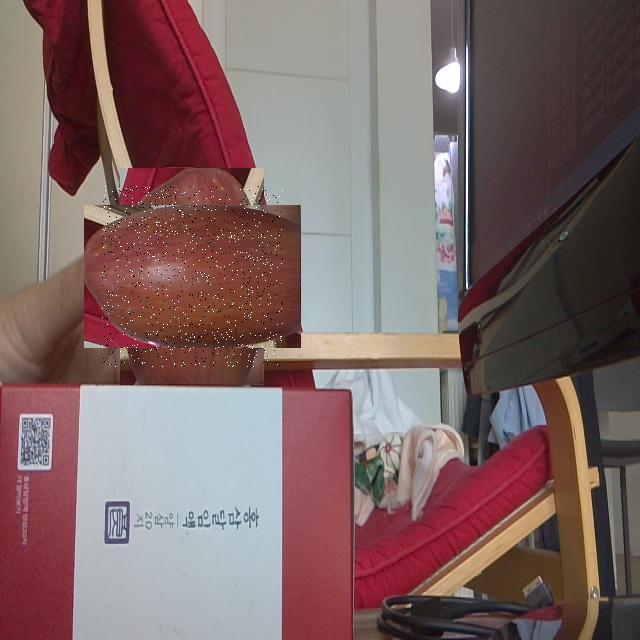apple: (102, 186, 283, 367)
